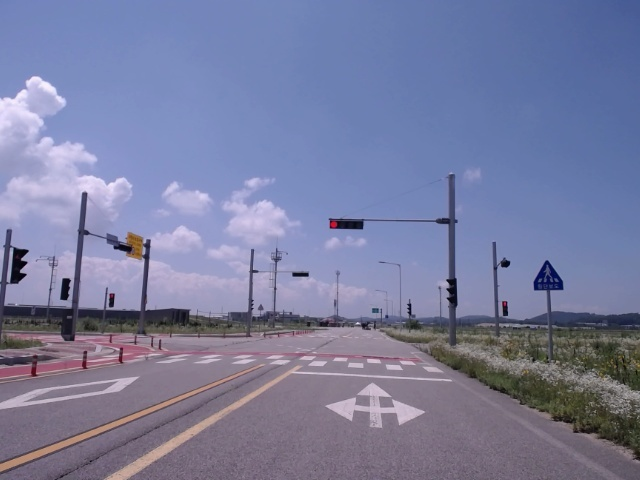red_4: (330, 220, 364, 230)
